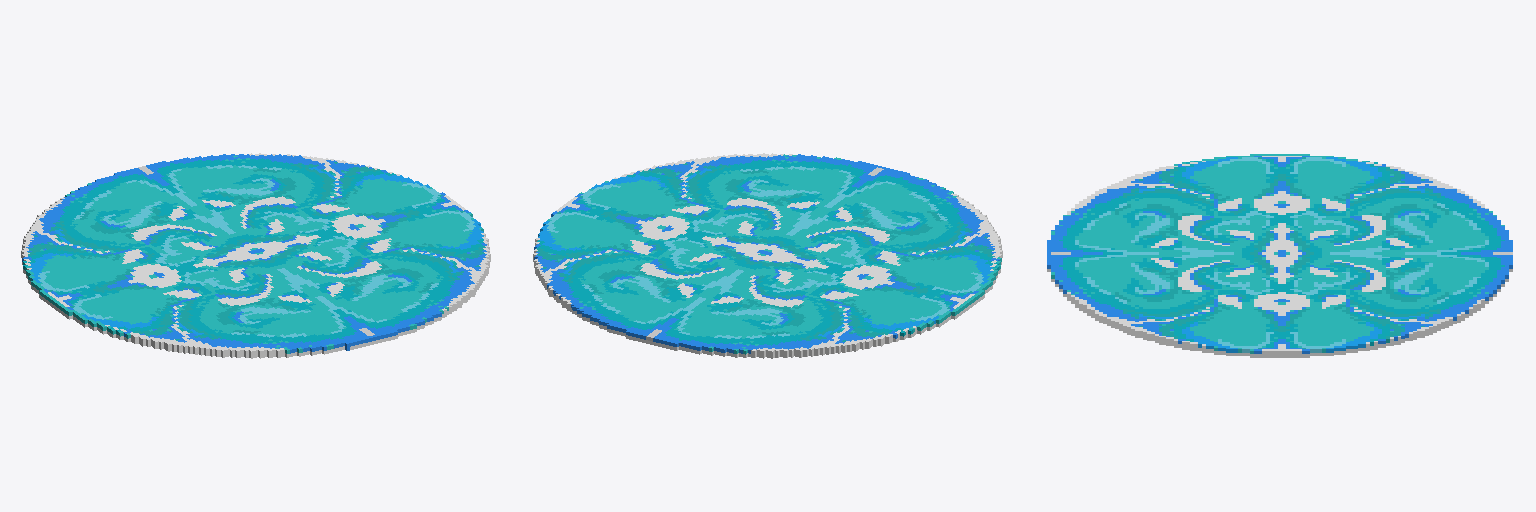
The picture shows the model from 3 angles: view 1: azimuth 30°, elevation 25°; view 2: azimuth 150°, elevation 25°; view 3: azimuth 270°, elevation 25°; orthographic projection.
Parts seen in each view (by area): view 1: icefield; view 2: icefield; view 3: icefield.
Part boxes in pixels (left/top/right/bottom): icefield: left=21, top=153, right=490, bottom=358; icefield: left=533, top=153, right=1002, bottom=358; icefield: left=1047, top=154, right=1512, bottom=357.
Bounding box in the file's own units: 117 × 2 × 117.
Materials: 1 (1 with a texture image).